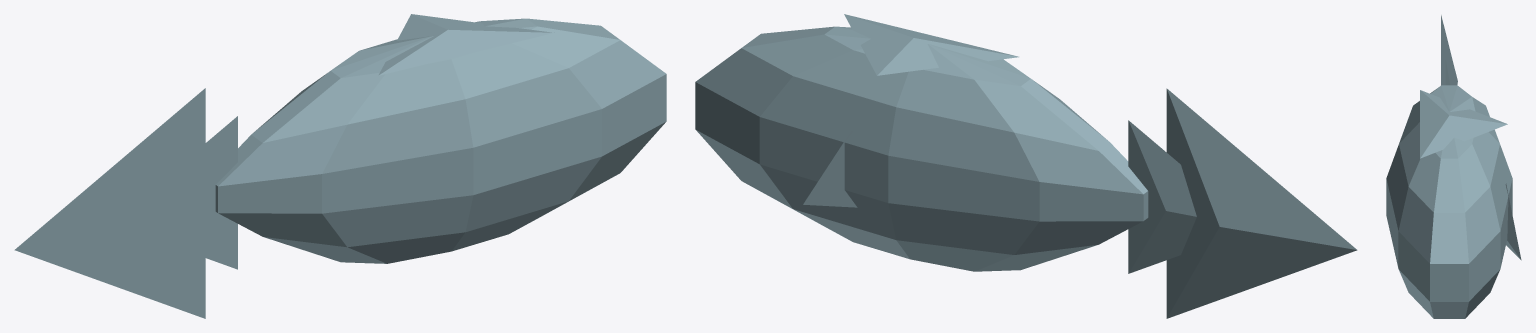
Rendered from fish.glb.
The picture shows the model from 3 angles, left to right: view 1: azimuth 30°, elevation 25°; view 2: azimuth 150°, elevation 25°; view 3: azimuth 270°, elevation 25°; orthographic projection. The views are drawn at different scales.
Parts seen in each view (by area): view 1: fish; view 2: fish; view 3: fish.
Part boxes in pixels (x1,y1,x2,y2): fish: (14, 14, 666, 318); fish: (695, 14, 1357, 318); fish: (1386, 15, 1521, 318).
Size of the model in its own units: 0.9115 by 0.3118 by 0.2072.
